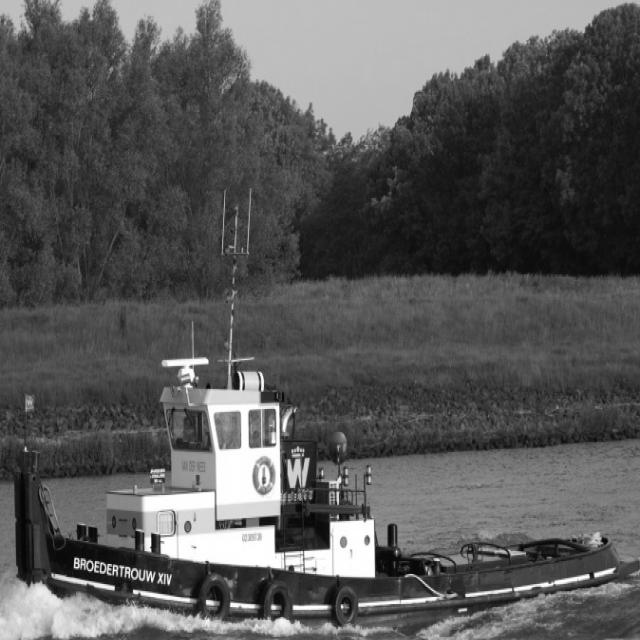tugboat: (5, 182, 640, 640)
